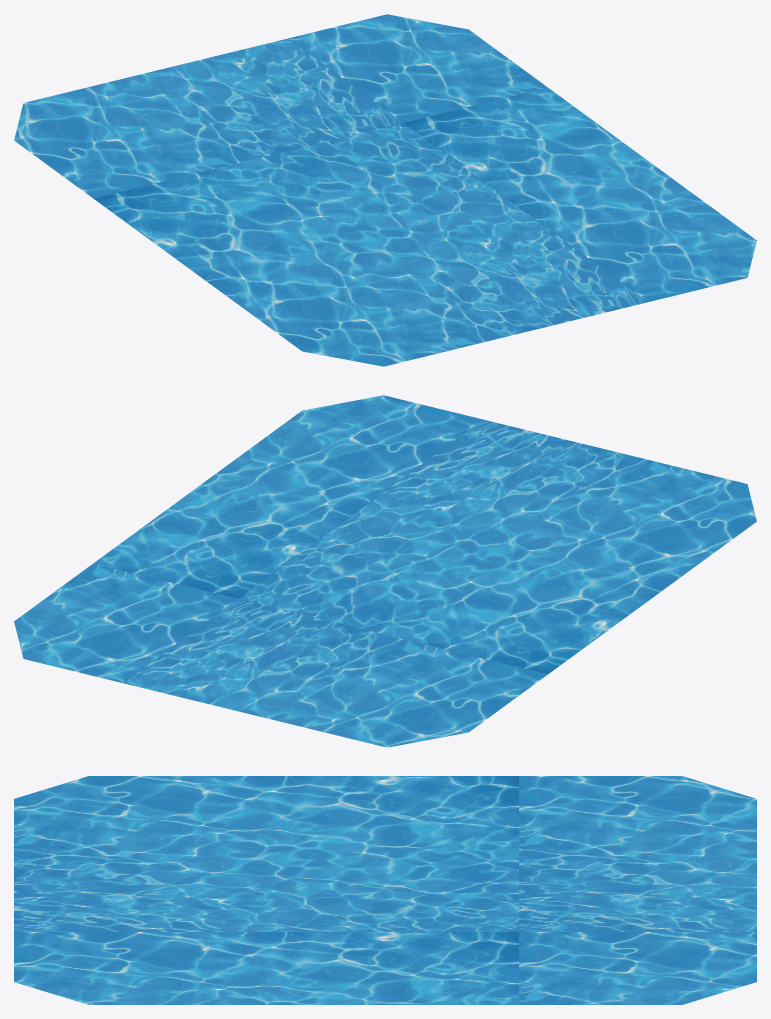
Rendered from Sea.obj.
3 renders of one model, top to bottom at view 1: azimuth 30°, elevation 25°; view 2: azimuth 150°, elevation 25°; view 3: azimuth 270°, elevation 25°, orthographic. The views are drawn at different scales.
Parts seen in each view (by area): view 1: polySurface1 Reja2:pasted__pasted__pCylinder1; view 2: polySurface1 Reja2:pasted__pasted__pCylinder1; view 3: polySurface1 Reja2:pasted__pasted__pCylinder1.
Boxes of the visible parts, <box> form: polySurface1 Reja2:pasted__pasted__pCylinder1: <box>14,14,756,366</box>; polySurface1 Reja2:pasted__pasted__pCylinder1: <box>14,395,756,747</box>; polySurface1 Reja2:pasted__pasted__pCylinder1: <box>14,776,756,1004</box>.
Bounding box in the file's own units: 7.57 × 0 × 10.39.
Materials: 1 (1 with a texture image).
